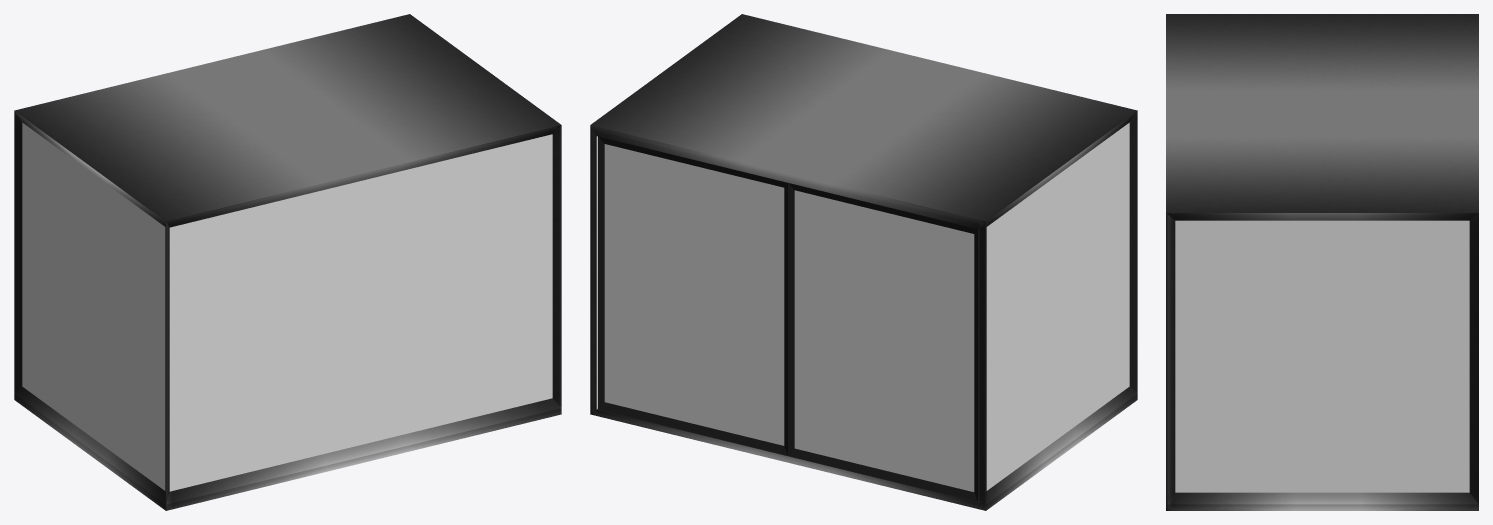
File: Counter_Display_Case.FBX
3 views of the same model, side by side, from view 1: azimuth 30°, elevation 25°; view 2: azimuth 150°, elevation 25°; view 3: azimuth 270°, elevation 25° (orthographic). The views are drawn at different scales.
Parts seen in each view (by area): view 1: Counter_Case; view 2: Counter_Case, Door1, Door2; view 3: Counter_Case.
Part boxes in pixels (<box>): Counter_Case: <box>14,14,561,510</box>; Counter_Case: <box>590,14,1137,510</box>; Door1: <box>788,183,979,501</box>; Door2: <box>598,136,787,455</box>; Counter_Case: <box>1166,14,1478,510</box>.
Size of the model in its own units: 249 by 174 by 165.
